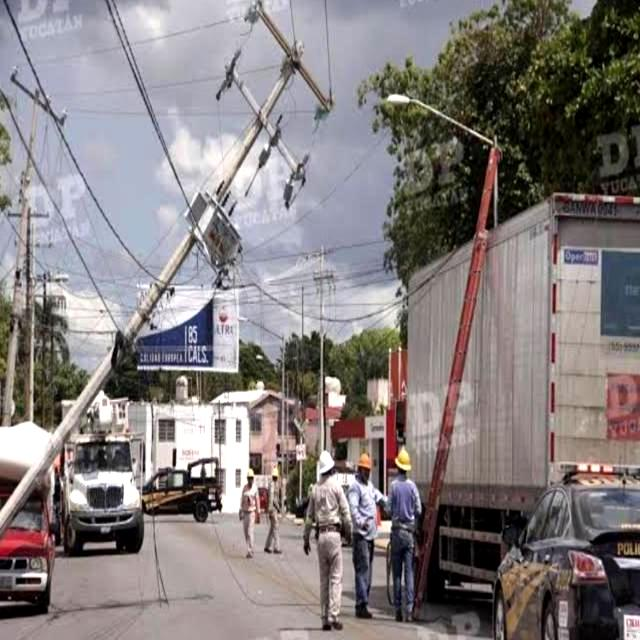Broken Pole: (0, 0, 334, 534), (388, 92, 504, 603)
